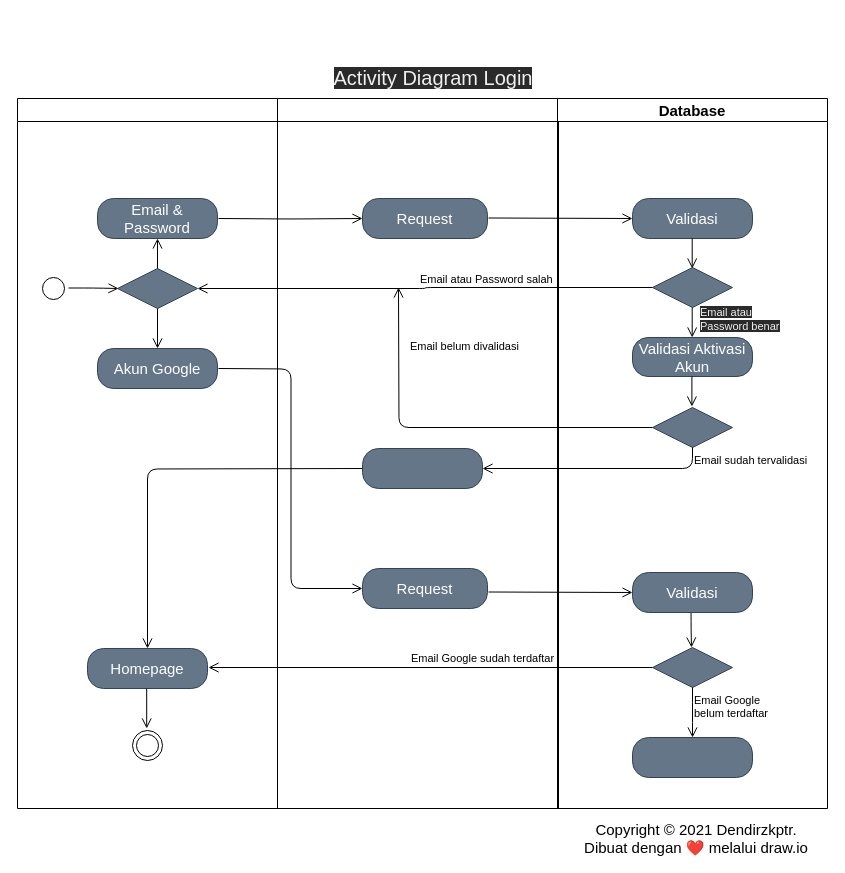
The diagram is 845 pixels wide and 873 high, and some of its shapes have lost their labels. The shapes that lost their labels are listed below. From the top down, each one's box as (x1, y1, x2, y2) in pixels, then its label:
(16, 98, 278, 808): Pelanggan
(276, 98, 558, 808): Sistem
(362, 448, 482, 488): Login Valid
(632, 736, 752, 778): Simpan data
